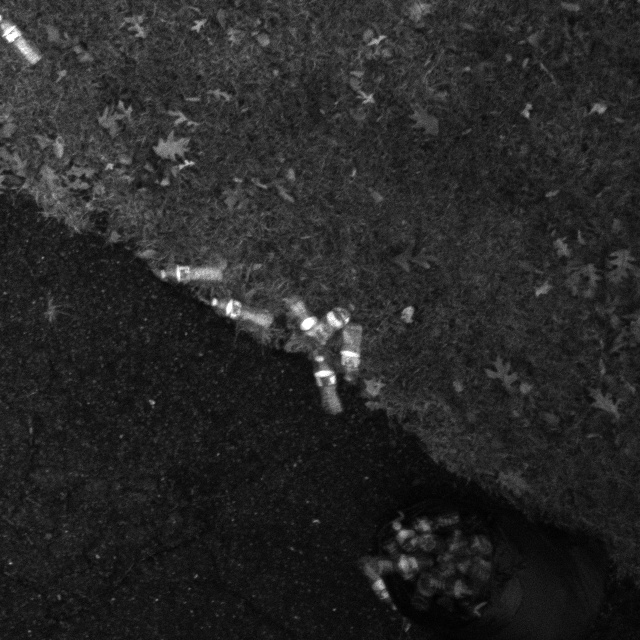bottle: (153, 251, 227, 303), (326, 315, 371, 388), (277, 288, 327, 352), (300, 358, 345, 427), (404, 500, 447, 572), (358, 555, 406, 617), (210, 291, 276, 336), (382, 508, 428, 572)
